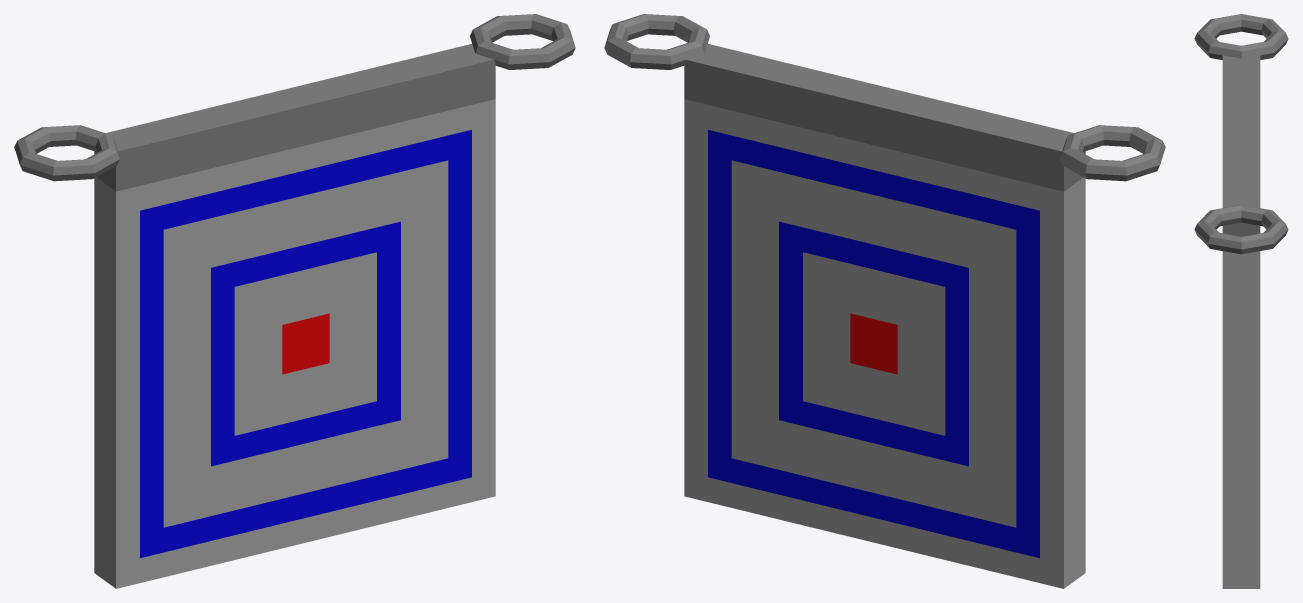
The model's file is Target.fbx.
3 renders of one model, left to right at view 1: azimuth 30°, elevation 25°; view 2: azimuth 150°, elevation 25°; view 3: azimuth 270°, elevation 25°, orthographic. The views are drawn at different scales.
Parts seen in each view (by area): view 1: pCube3; view 2: pCube3; view 3: pCube3.
Part boxes in pixels (x1=…): pCube3: x1=14, y1=14, x2=575, y2=588; pCube3: x1=604, y1=14, x2=1165, y2=588; pCube3: x1=1194, y1=14, x2=1288, y2=588.
Size of the model in its own units: 14.5 by 11.25 by 2.5.
